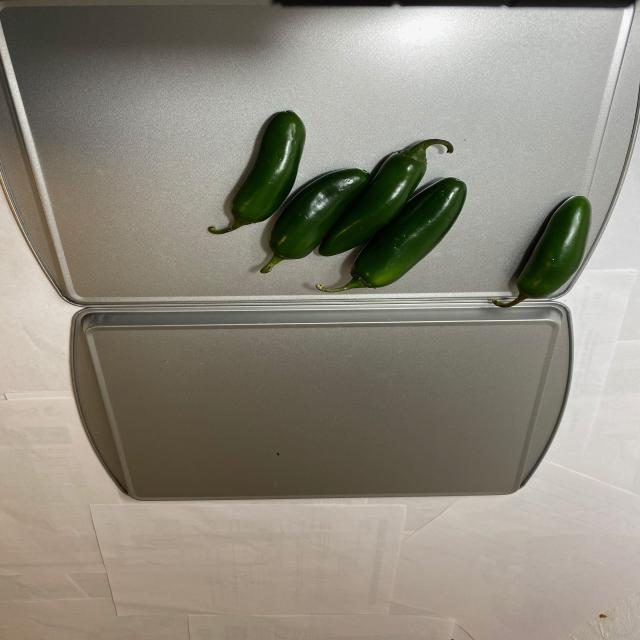chilli: (197, 106, 587, 312)
